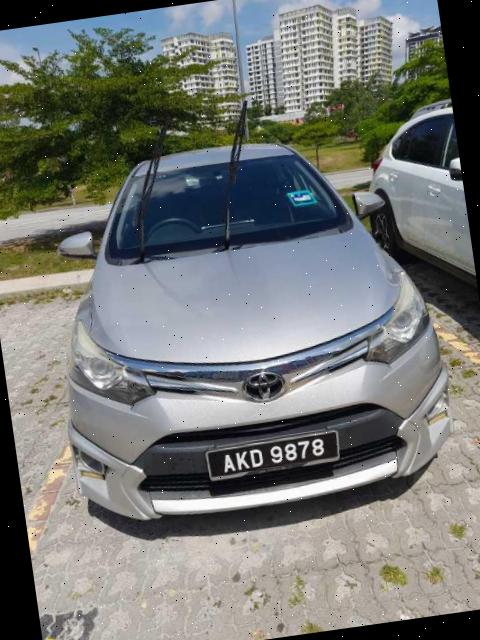License_Plate: (204, 429, 344, 484)
car: (32, 117, 465, 535)
